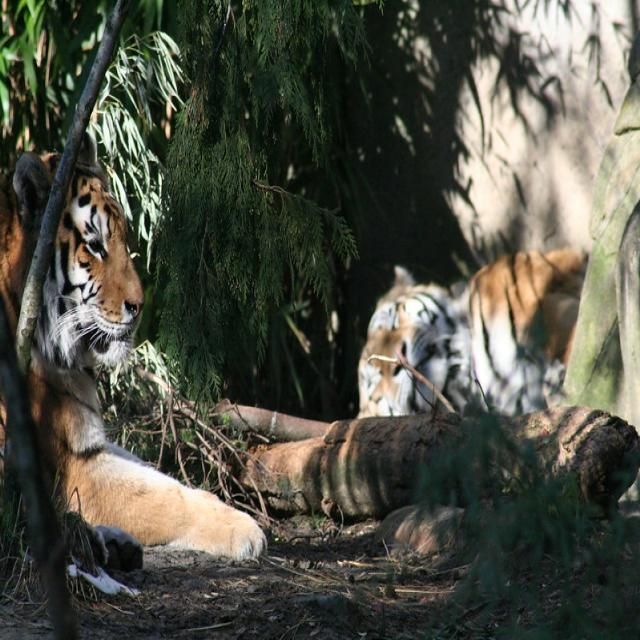Tiger: (0, 150, 268, 565), (359, 248, 586, 411)
